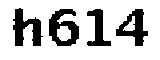1: (85, 5, 111, 51)
4: (112, 7, 151, 48)
6: (47, 7, 83, 48)
h: (11, 6, 44, 51)
